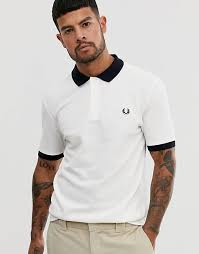C_polo shirt: (27, 53, 180, 221)
